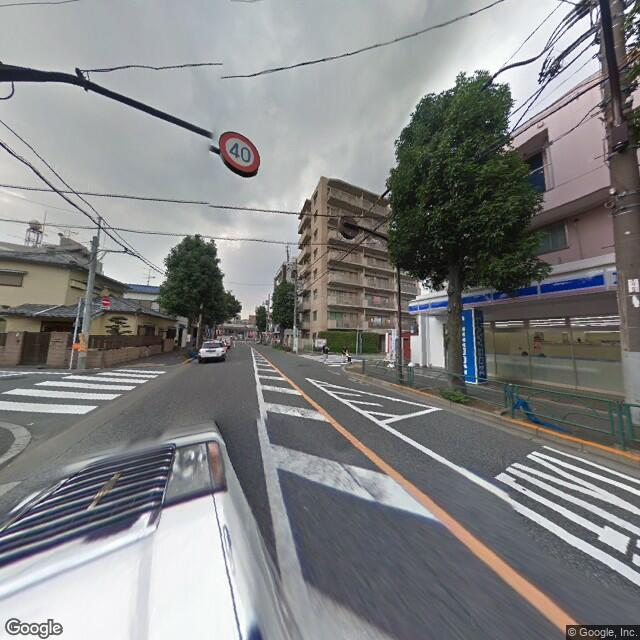lawson: (404, 262, 621, 317)
